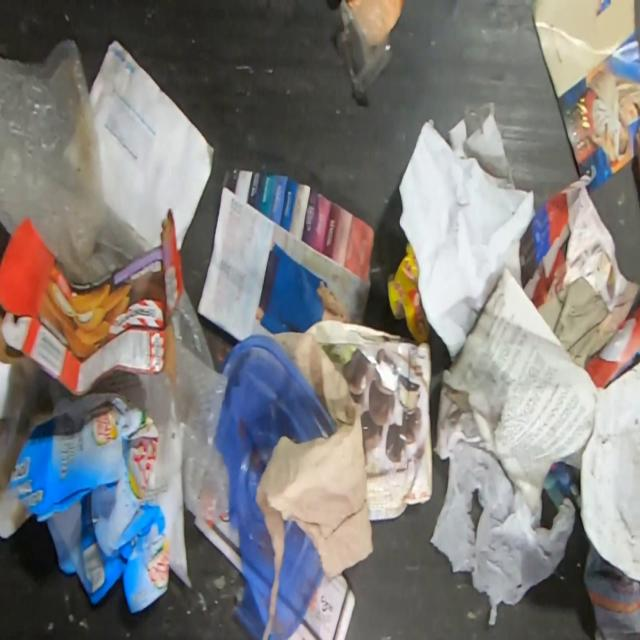cardboard: (0, 396, 169, 611), (0, 211, 183, 397), (196, 169, 375, 339), (306, 318, 433, 520)
rigid_plastic: (216, 335, 336, 639), (338, 1, 392, 102)
soft_plastic: (0, 38, 156, 294), (173, 288, 230, 519)
